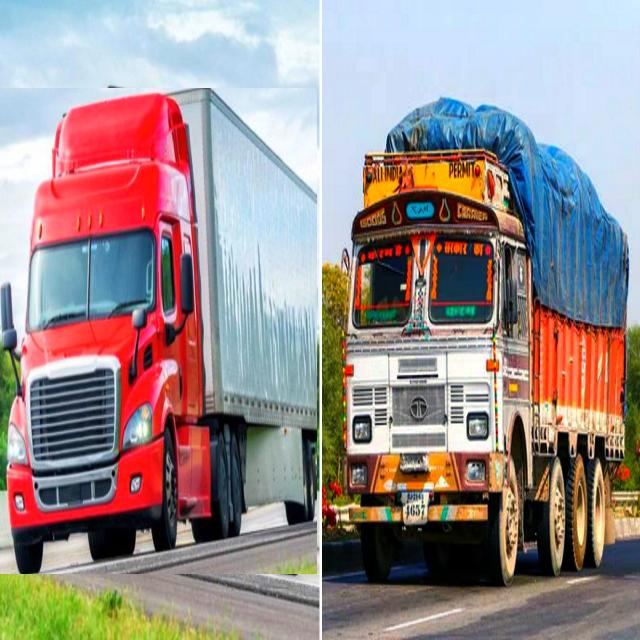truck: (0, 89, 317, 574), (342, 100, 629, 584)
